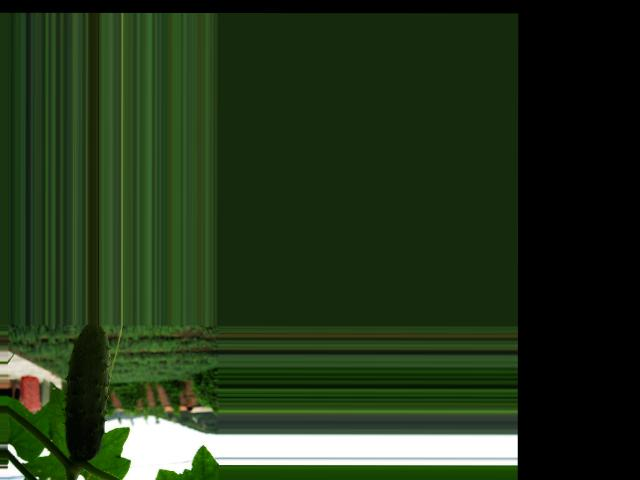cucumber: (65, 323, 109, 460)
